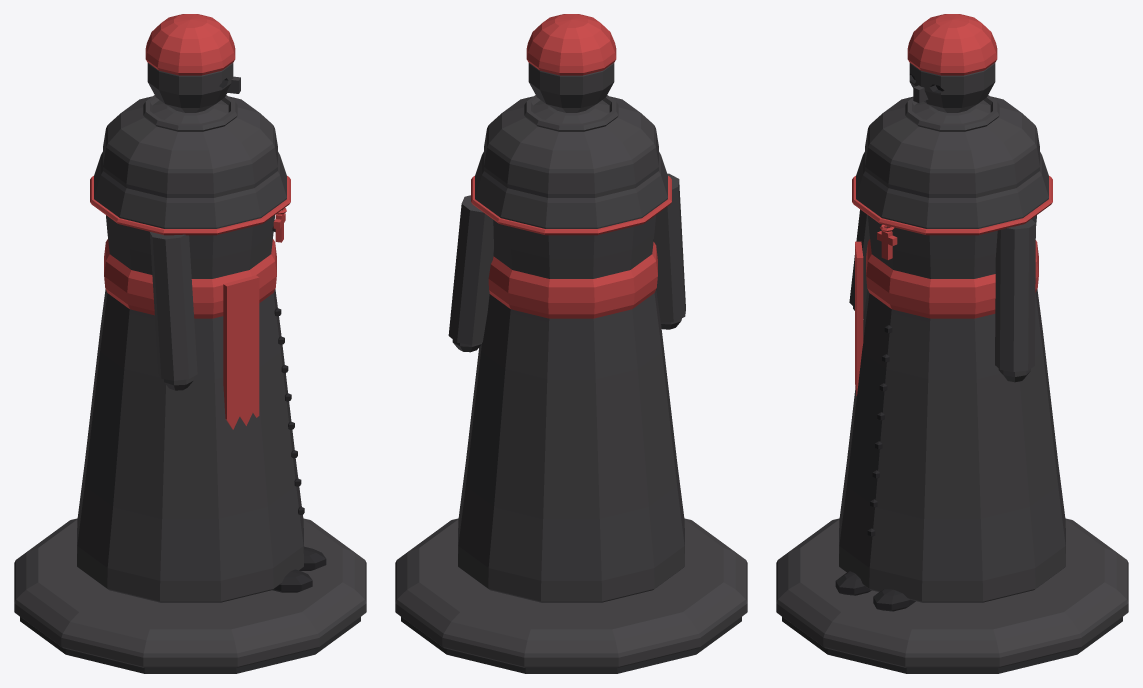
Rendered from bishop_black.glb.
3 views of the same model, side by side, from view 1: azimuth 30°, elevation 25°; view 2: azimuth 150°, elevation 25°; view 3: azimuth 270°, elevation 25° (orthographic).
Parts seen in each view (by area): view 1: Bishop_Black; view 2: Bishop_Black; view 3: Bishop_Black.
Boxes of the visible parts, x1,y1,x2,y2 form: Bishop_Black: [14, 14, 366, 673]; Bishop_Black: [395, 14, 747, 673]; Bishop_Black: [776, 14, 1128, 673].
Size of the model in its own units: 1.2 by 2.18 by 1.2.
